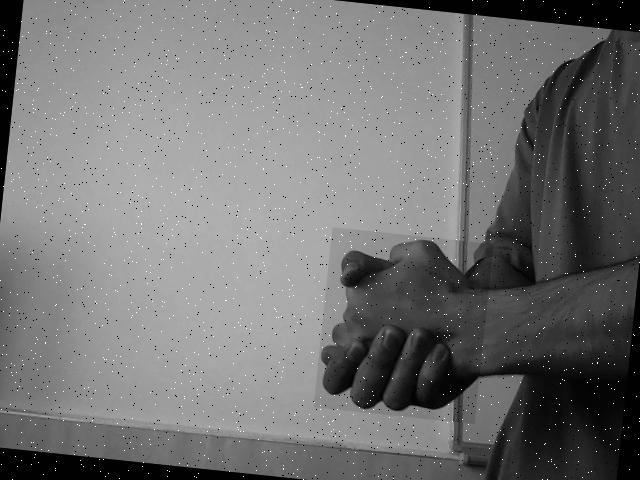friend: (320, 240, 488, 416)
